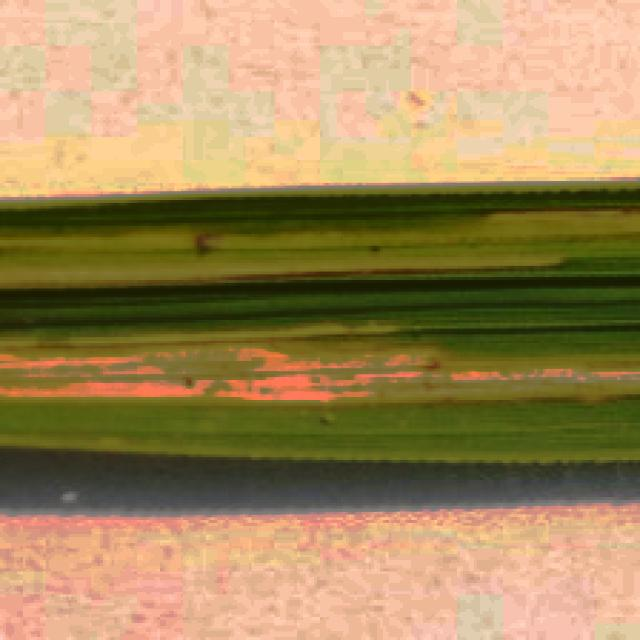unhealth: (0, 201, 639, 445)
